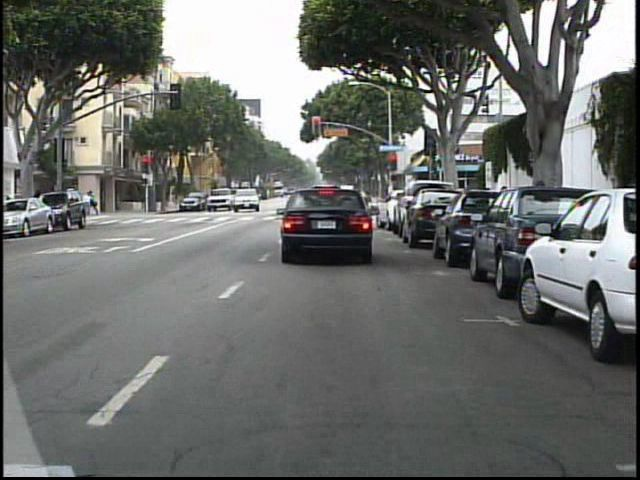person: (92, 187, 105, 219), (84, 190, 95, 217)
